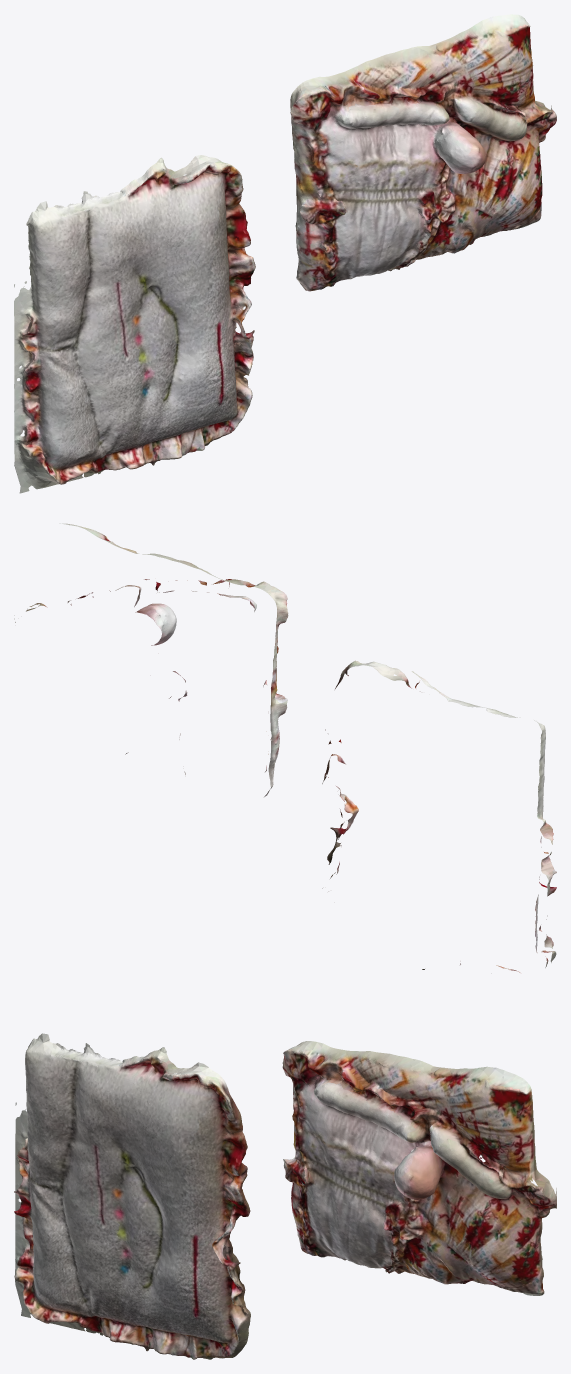
Rendered from shortcake-c.glb.
The picture shows the model from 3 angles, top to bottom: view 1: azimuth 30°, elevation 25°; view 2: azimuth 150°, elevation 25°; view 3: azimuth 330°, elevation 25°; orthographic projection.
Visible parts, largest first — view 1: mesh; view 2: mesh; view 3: mesh.
Part boxes in pixels (<box>): mesh: <box>14,14,556,493</box>; mesh: <box>14,523,556,972</box>; mesh: <box>14,1033,556,1359</box>.
Size of the model in its own units: 1.19 by 0.7626 by 0.1441.
Materials: 1 (1 with a texture image).
